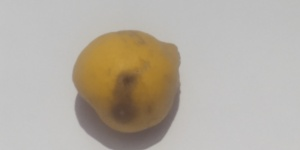BAD: (71, 29, 180, 133)
